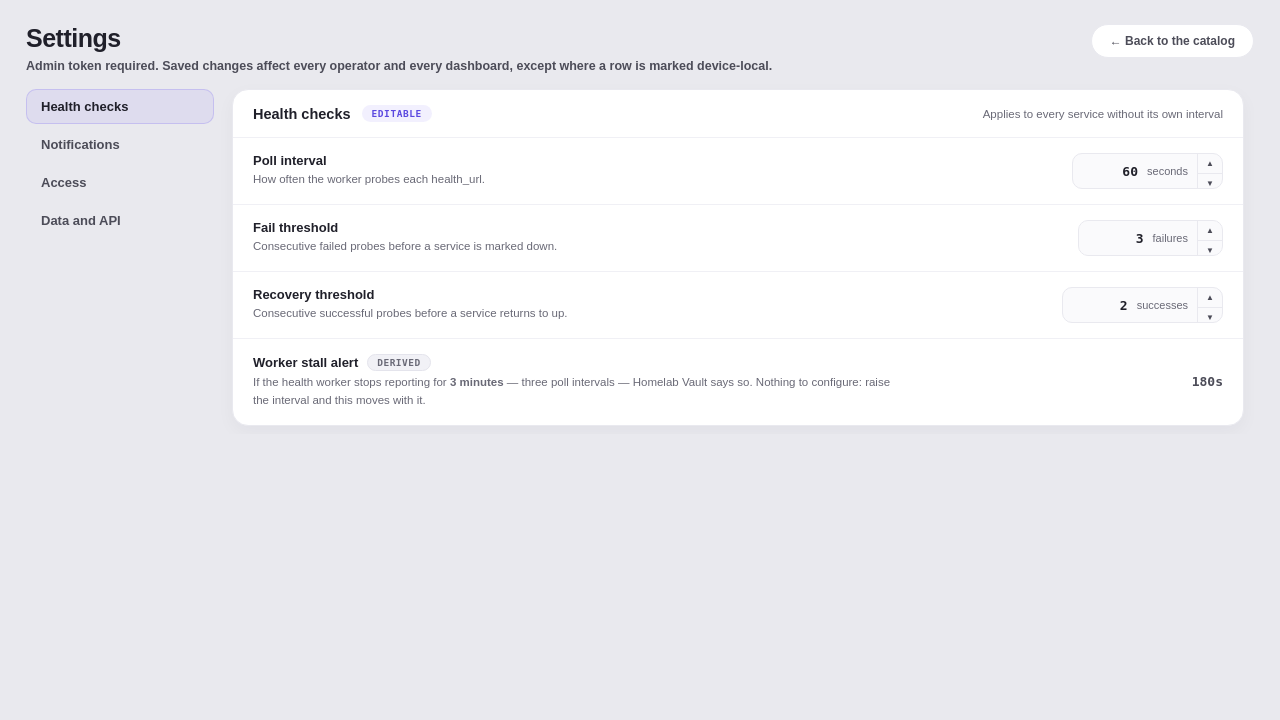
Test case: int settings are typable, not stepper-only › clamps to the floor on blur
This screenshot has width=1280, height=720.
Replace the text in the number field named "Poll interval" with "3" at (1110, 171), box [1073, 154, 1147, 188]
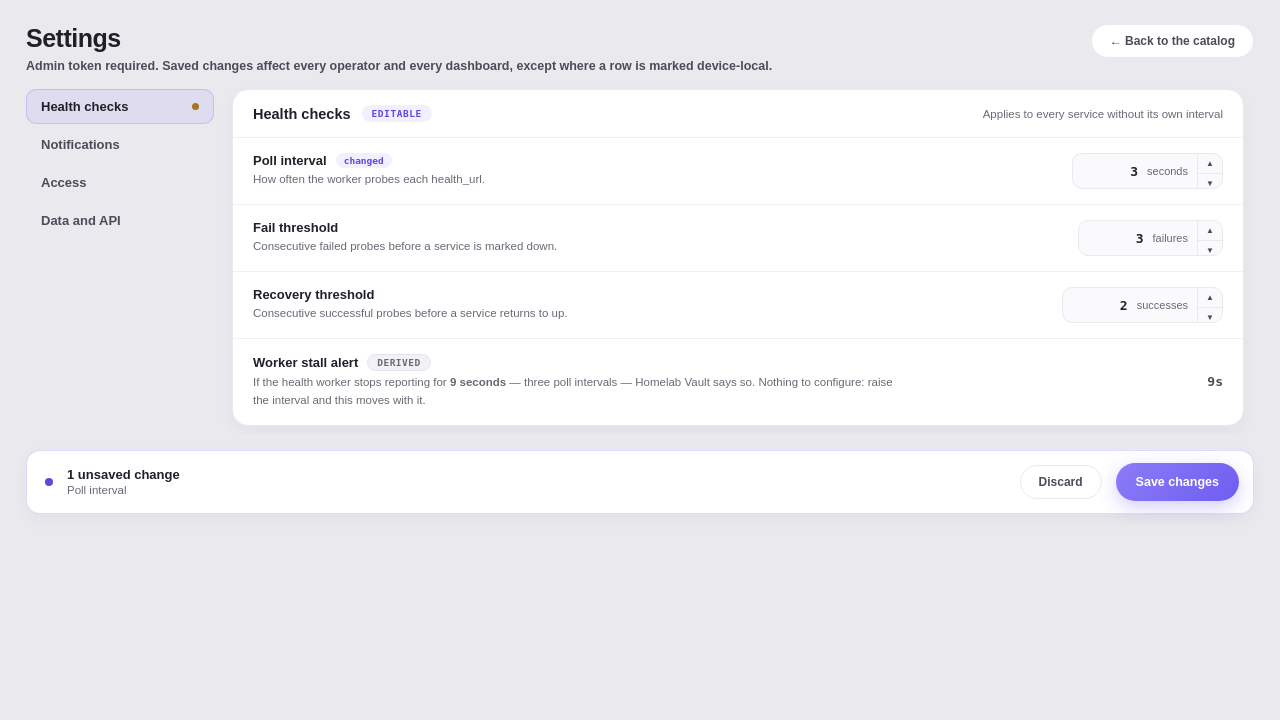
Leave the number field named "Poll interval", box [1073, 154, 1147, 188]
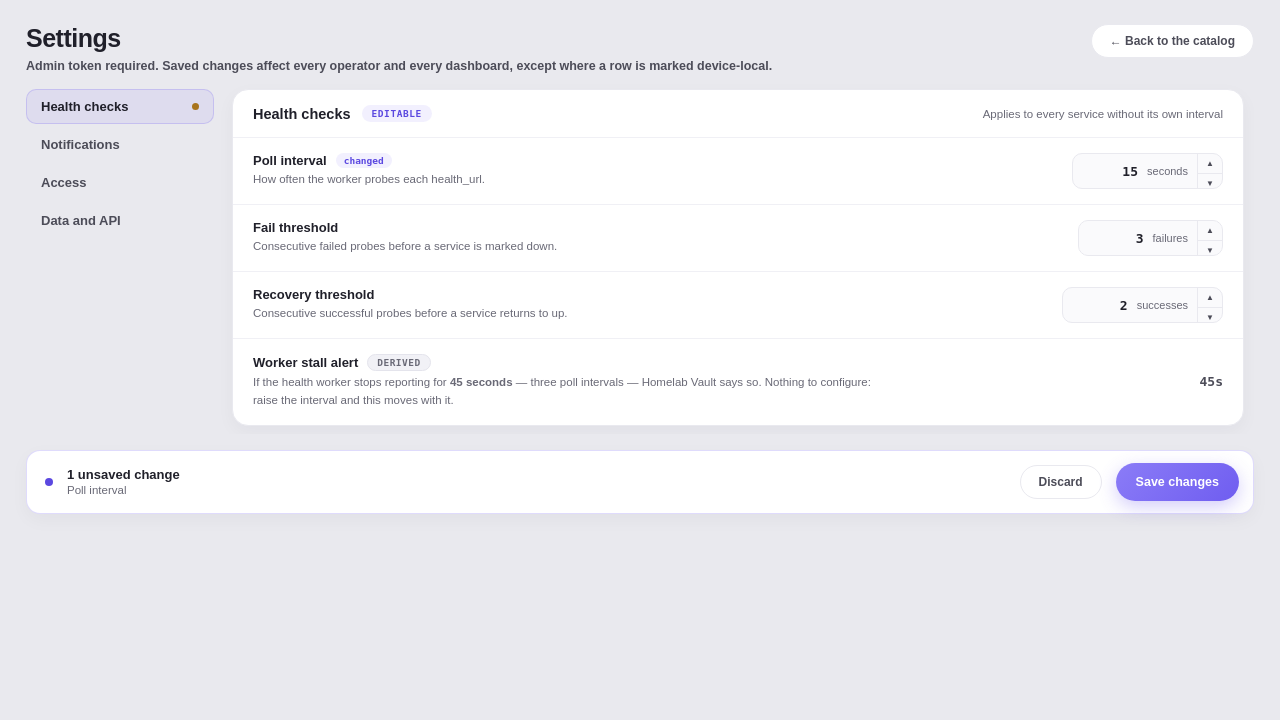
Now the number field named "Poll interval" holds "15", box [1073, 154, 1147, 188]
